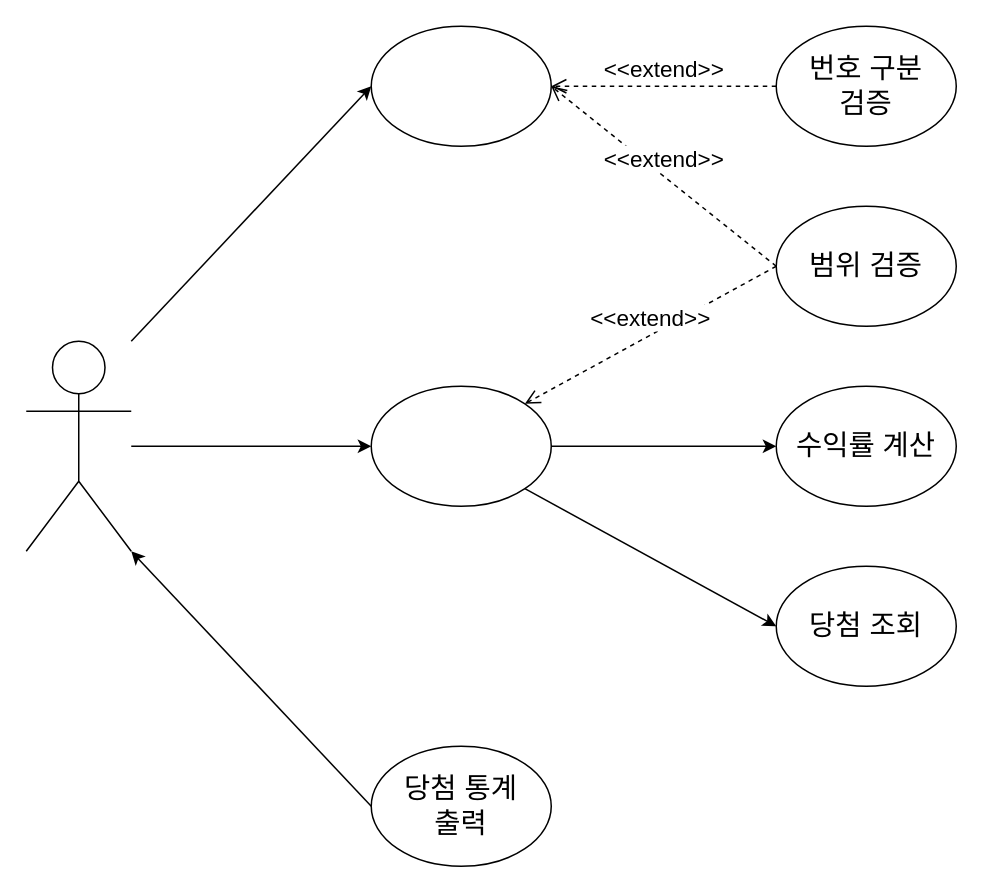
Some shapes in this 983 by 893 pixel diagram are drawn without their labels. The shapes that lost their labels are listed below. From the top down, each one's box as (x1, y1, x2, y2) in pixels, then its label:
(370, 25, 551, 146): 로또 정보 입력
(25, 340, 131, 551): Actor
(370, 385, 551, 506): 로또 발매
